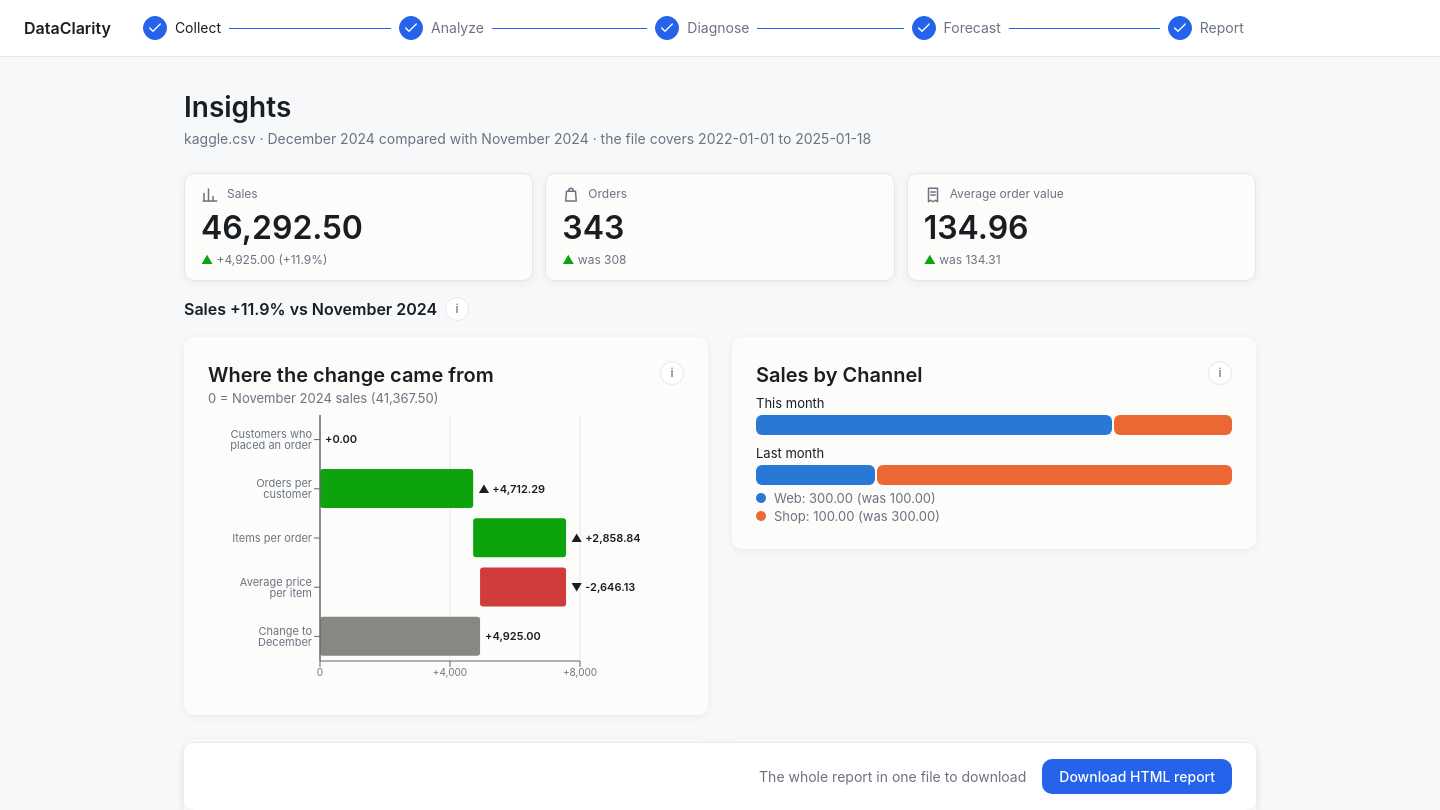
Insights draws the dashboard block › parts of a whole: a row per month and each part's figures in the legend
Expected: the text "This month" is shown, 756,395 -> 825,411
Expected: the text "Last month" is shown, 756,445 -> 824,461
Click the button with class "marker" in the row of "Sales by Channel".
click(1220, 373)  # box 1208,361 -> 1232,385
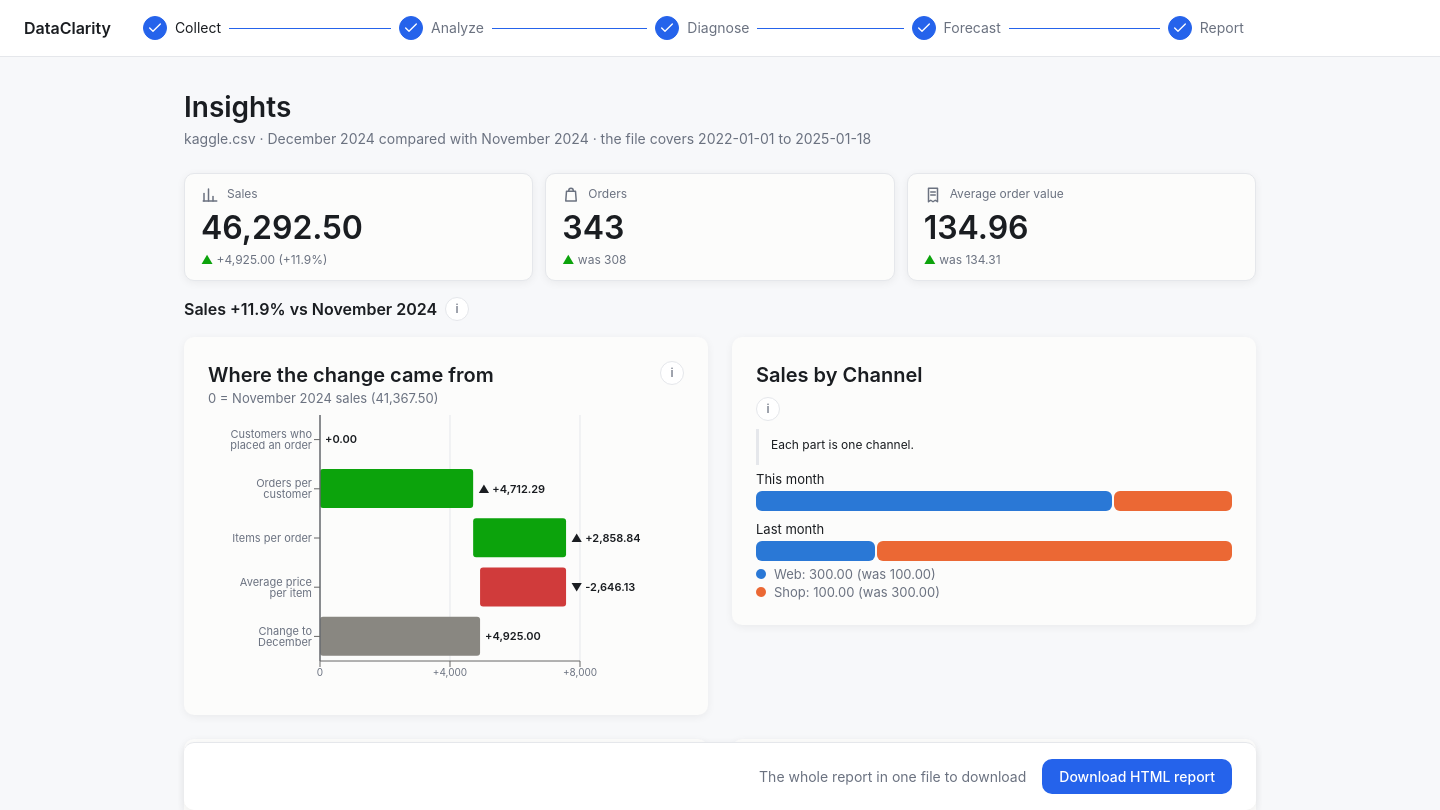
Expected: the text "Each part is one channel." is shown, 771,437 -> 914,453
